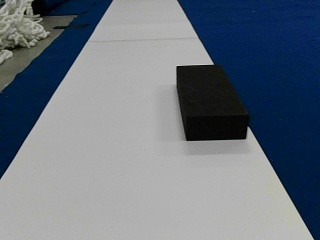block: (177, 64, 247, 139)
